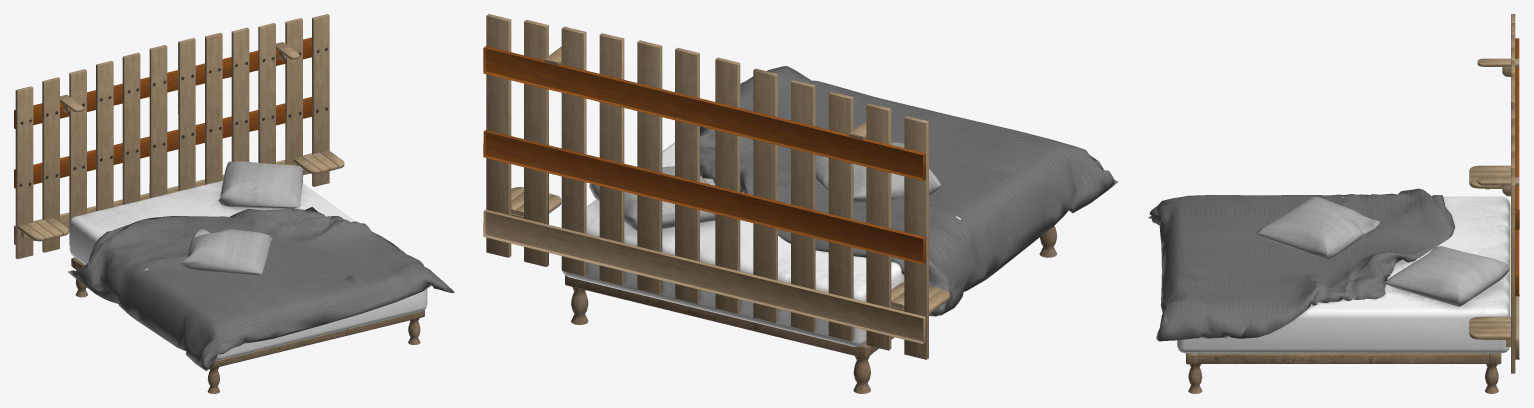
File: bed_hysokana.glb
The picture shows the model from 3 angles, left to right: view 1: azimuth 30°, elevation 25°; view 2: azimuth 150°, elevation 25°; view 3: azimuth 270°, elevation 25°; orthographic projection. The views are drawn at different scales.
Visible parts, largest first — view 1: Cube.002_WoodStructure_0, Cube.008_Blanket_0, Cube.004_Matress_0, Plane_Cushins_0, Cylinder_BedFRame_0; view 2: Cube.002_WoodStructure_0, Cube.008_Blanket_0, Cube.004_Matress_0, Cylinder_BedFRame_0, Plane_Cushins_0; view 3: Cube.008_Blanket_0, Cube.004_Matress_0, Plane_Cushins_0, Cube.002_WoodStructure_0, Cylinder_BedFRame_0.
Part boxes in pixels (<box>): Cube.002_WoodStructure_0: <box>14,14,344,259</box>; Cube.008_Blanket_0: <box>68,207,454,371</box>; Cube.004_Matress_0: <box>69,180,427,360</box>; Plane_Cushins_0: <box>181,161,304,275</box>; Cylinder_BedFRame_0: <box>71,257,424,393</box>; Cube.002_WoodStructure_0: <box>483,14,949,359</box>; Cube.008_Blanket_0: <box>700,66,1117,316</box>; Cube.004_Matress_0: <box>562,142,960,346</box>; Cylinder_BedFRame_0: <box>565,226,1056,393</box>; Plane_Cushins_0: <box>589,142,941,230</box>; Cube.008_Blanket_0: <box>1148,188,1454,341</box>; Cube.004_Matress_0: <box>1177,196,1510,353</box>; Plane_Cushins_0: <box>1256,197,1509,306</box>; Cube.002_WoodStructure_0: <box>1469,14,1519,373</box>; Cylinder_BedFRame_0: <box>1186,353,1501,393</box>.
Bounding box in the file's own units: 2.92 × 1.96 × 2.68.
5 materials, 5 textured.
